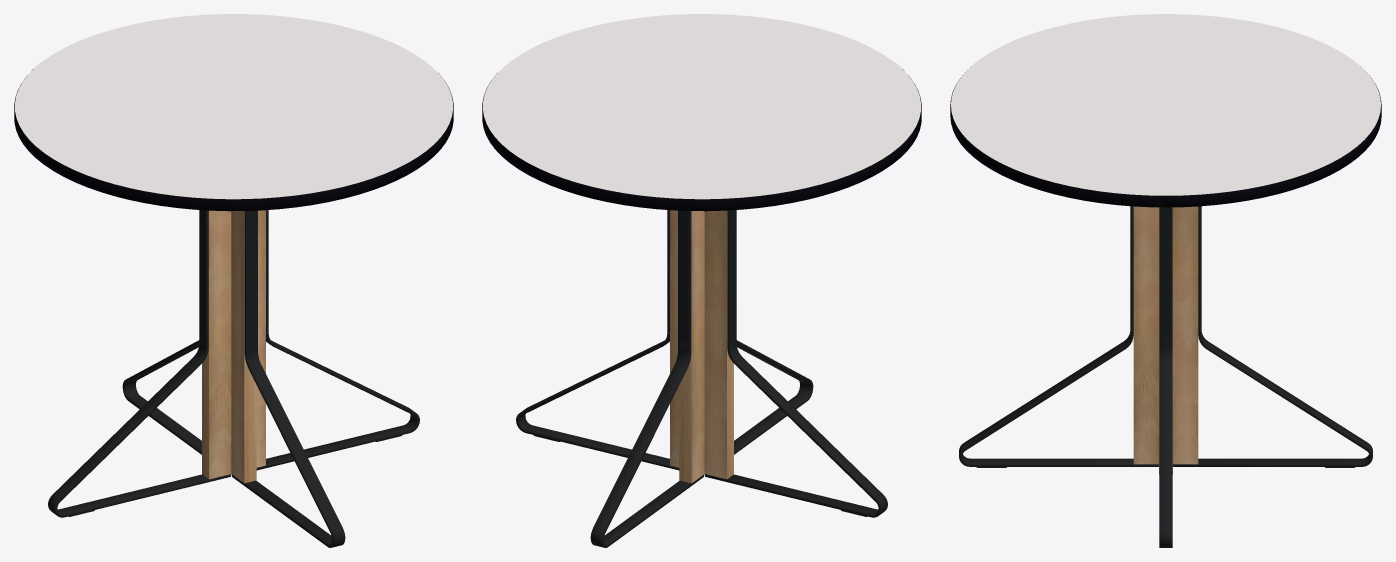
The model's file is table.fbx.
3 views of the same model, side by side, from view 1: azimuth 30°, elevation 25°; view 2: azimuth 150°, elevation 25°; view 3: azimuth 270°, elevation 25° (orthographic).
Parts seen in each view (by area): view 1: FbxMesh (×9); view 2: FbxMesh (×9); view 3: FbxMesh (×8).
Part boxes in pixels (x1,y1,x2,y2): FbxMesh (×9): [14, 14, 453, 547]; FbxMesh (×9): [482, 14, 921, 547]; FbxMesh (×8): [950, 14, 1381, 547].
Size of the model in its own units: 0.8 by 0.74 by 0.8.
Materials: 4 (1 with a texture image).
